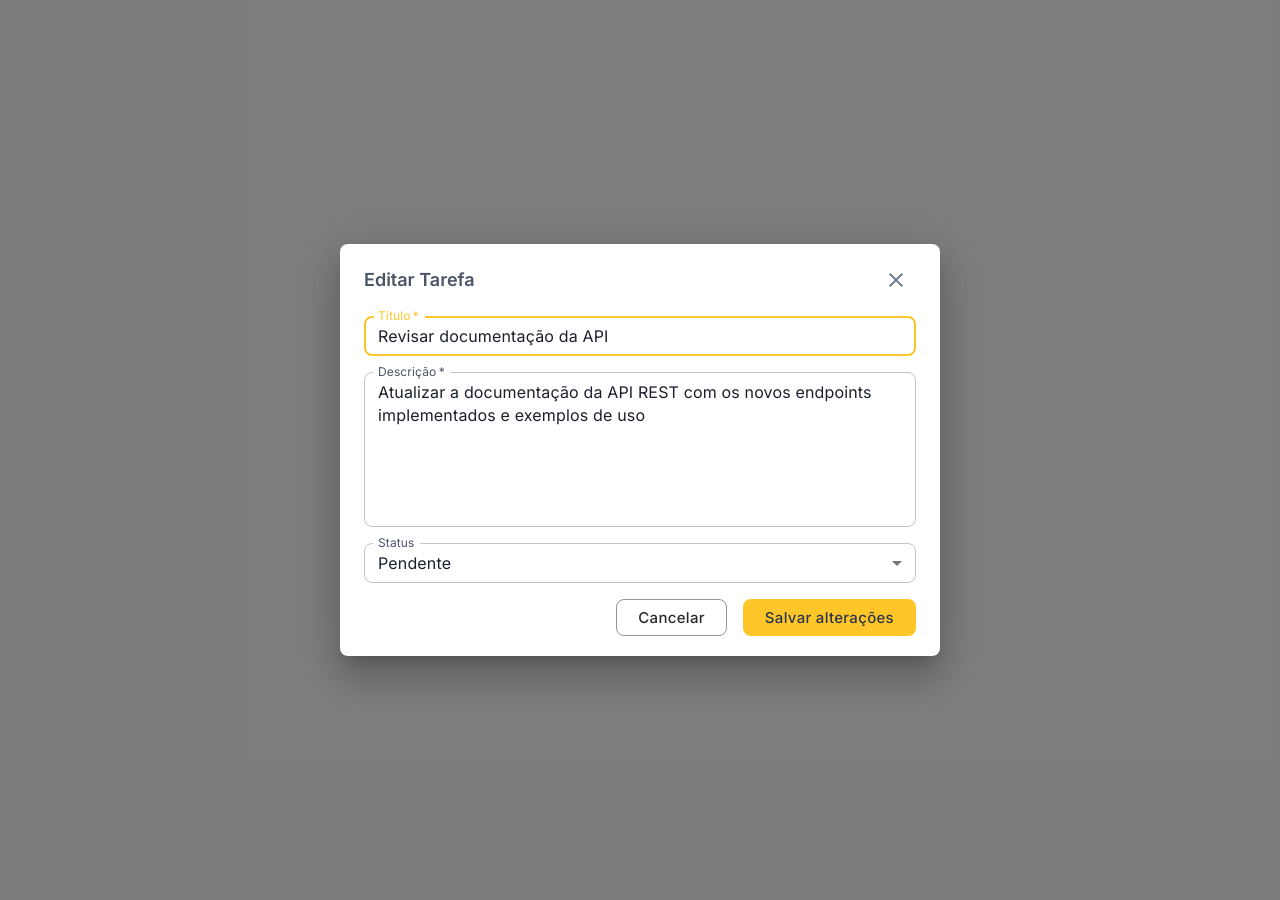
Test case: TaskEdit - Integration Tests › Edge Cases › should display error message when task update fails
Expected: the text "Editar Tarefa" is shown, left=364, top=267, right=475, bottom=293
Replace the text in the field labelled "Título *" with "Título modificado" at [640, 336], box left=364, top=316, right=916, bottom=356
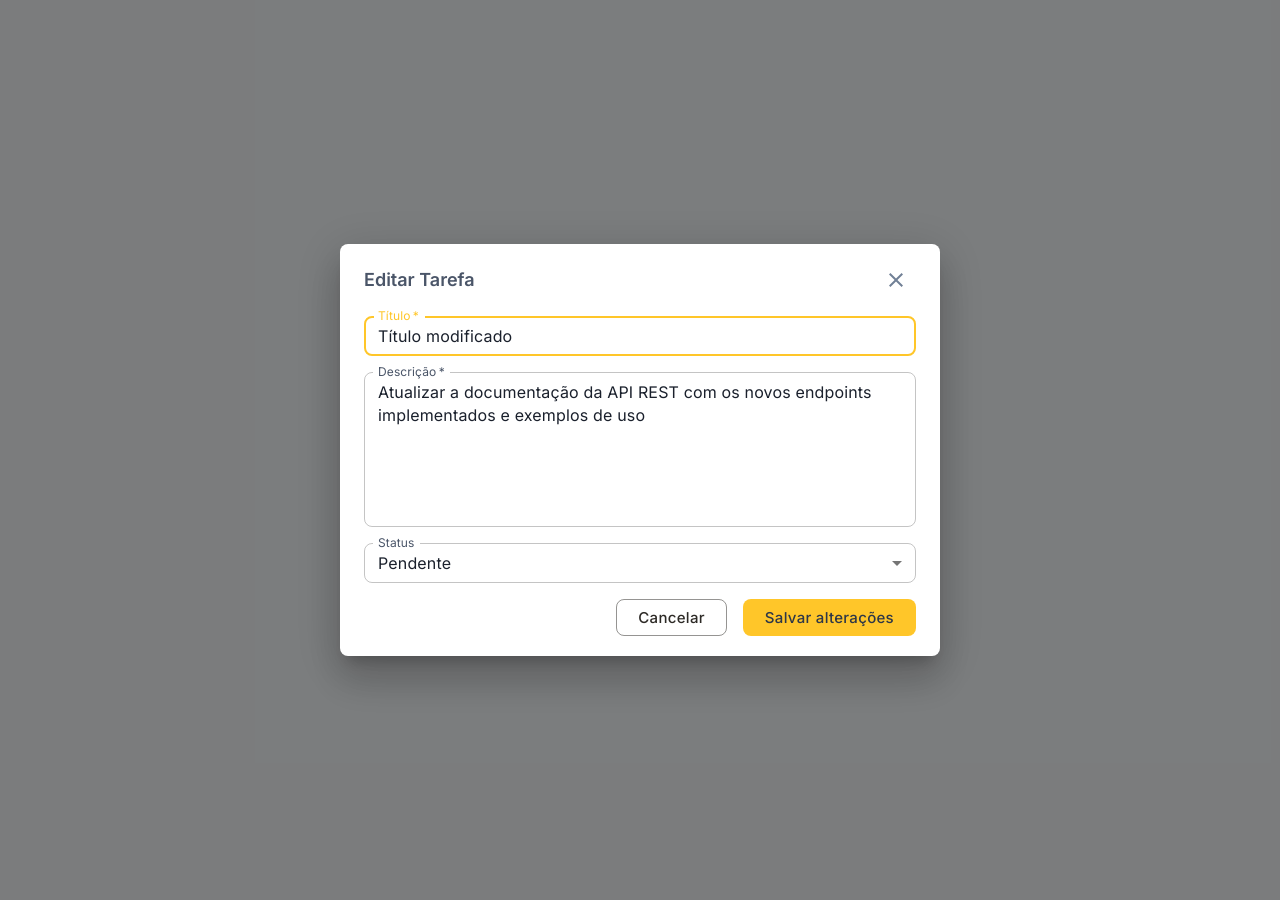
Click the button "Salvar alterações" at [829, 618], box left=743, top=599, right=916, bottom=636
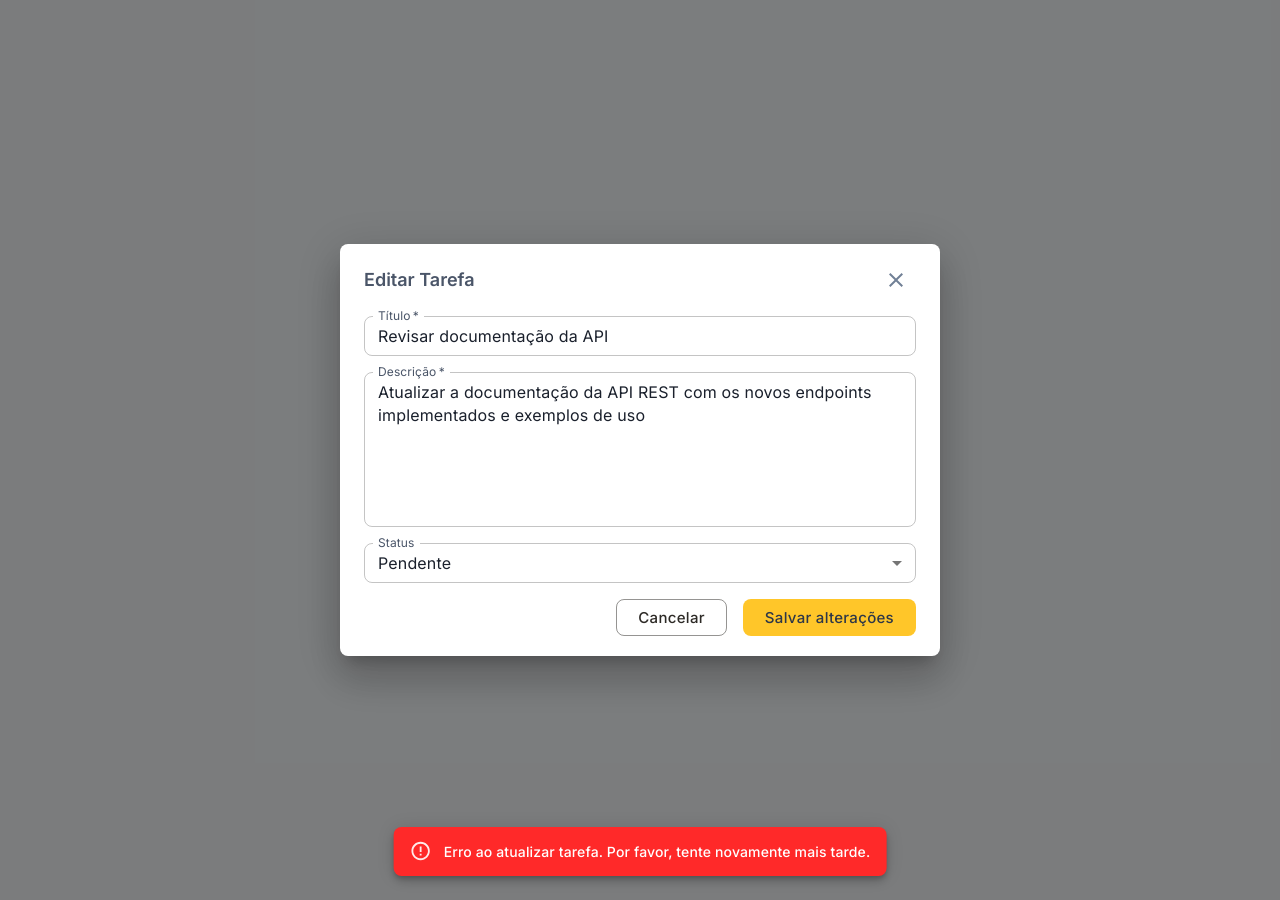
Now the text "Erro ao atualizar tarefa. Por favor, tente novamente mais tarde." is shown, box left=444, top=843, right=870, bottom=860
